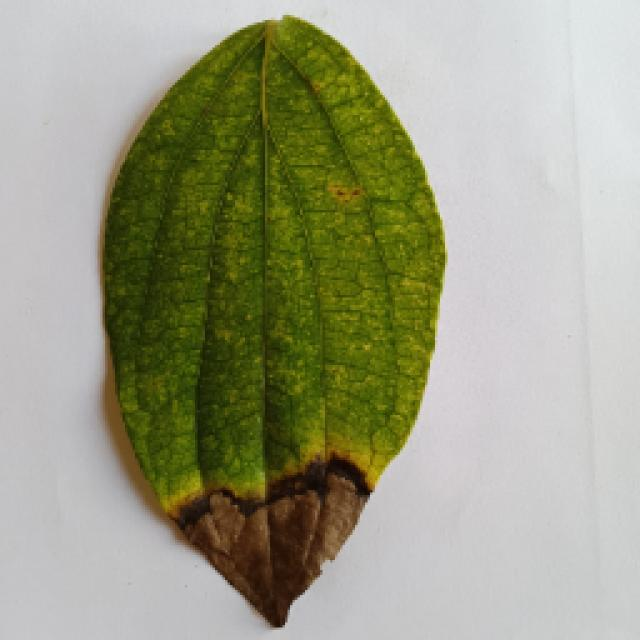footrot: (88, 32, 458, 628)
